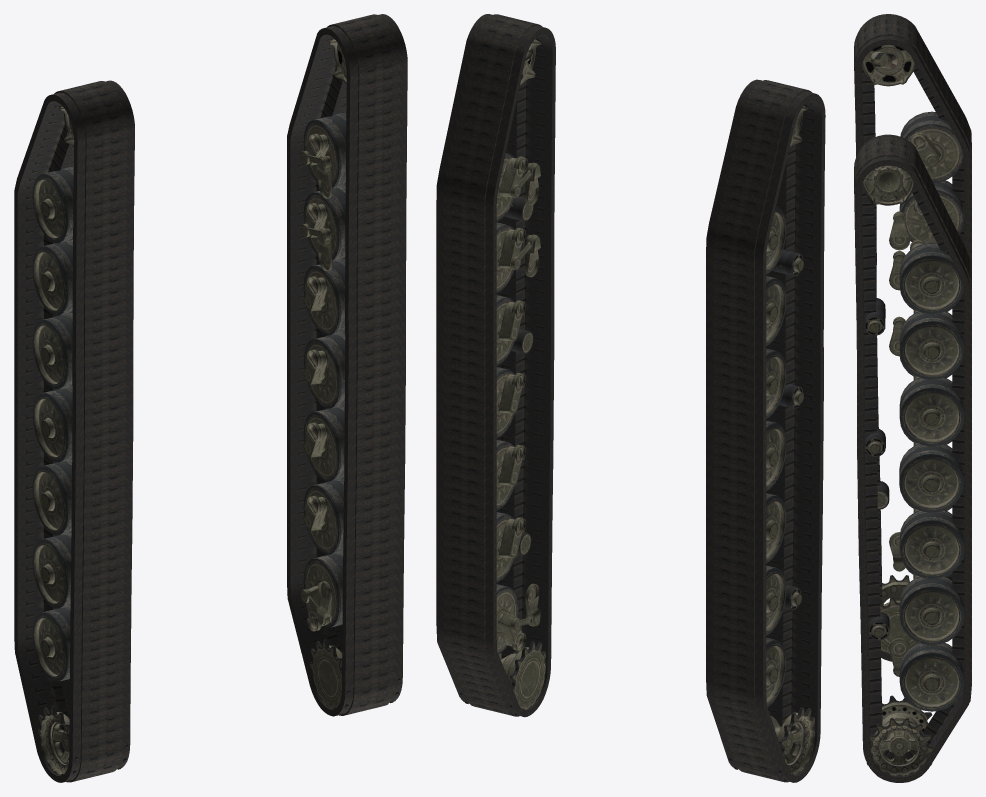
File: Chassis.glb
3 views of the same model, side by side, from view 1: azimuth 30°, elevation 25°; view 2: azimuth 150°, elevation 25°; view 3: azimuth 270°, elevation 25° (orthographic). The views are drawn at different scales.
Visible parts, largest first — view 1: set_1_group_0, set_0_group_0, set_3_group_0, set_2_group_0; view 2: set_1_group_0, set_0_group_0, set_3_group_0, set_2_group_0; view 3: set_3_group_0, set_0_group_0, set_2_group_0, set_1_group_0.
Part boxes in pixels (bbox=[...]): set_1_group_0: bbox=[14, 80, 134, 782]; set_0_group_0: bbox=[287, 14, 407, 716]; set_3_group_0: bbox=[300, 38, 400, 716]; set_2_group_0: bbox=[32, 105, 128, 782]; set_1_group_0: bbox=[706, 79, 825, 782]; set_0_group_0: bbox=[436, 14, 555, 716]; set_3_group_0: bbox=[460, 38, 545, 717]; set_2_group_0: bbox=[729, 104, 814, 782]; set_3_group_0: bbox=[862, 165, 964, 776]; set_0_group_0: bbox=[854, 134, 971, 782]; set_2_group_0: bbox=[862, 45, 964, 654]; set_1_group_0: bbox=[854, 14, 971, 661].
Size of the model in its own units: 3.33 by 6.65 by 1.14.
4 materials, 4 textured.
